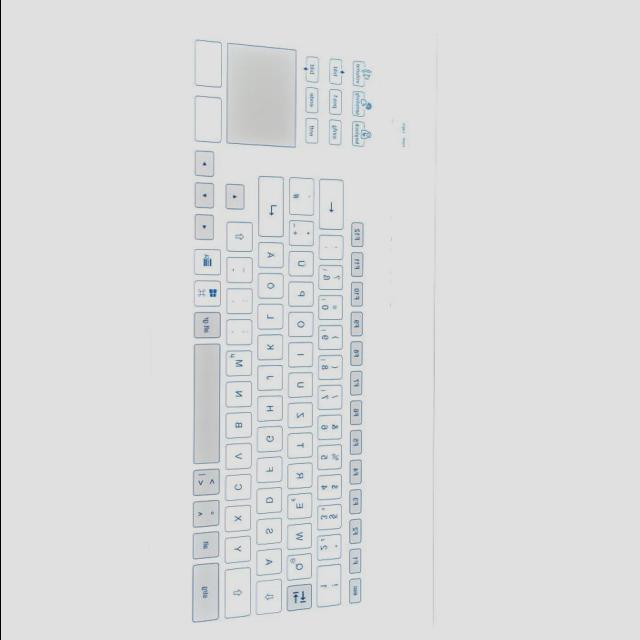0: (320, 297, 346, 323)
1: (320, 566, 344, 609)
2: (320, 536, 344, 562)
3: (319, 505, 345, 533)
4: (319, 476, 345, 502)
5: (319, 446, 345, 472)
6: (319, 416, 345, 442)
7: (319, 387, 345, 413)
8: (319, 357, 345, 383)
9: (320, 327, 346, 353)
a: (259, 551, 285, 579)
accent: (321, 237, 345, 262)
ae: (259, 243, 287, 271)
alt-left: (192, 532, 221, 560)
altgr-right: (193, 312, 222, 340)
b: (227, 413, 255, 441)
c: (226, 475, 254, 503)
comma: (228, 322, 256, 348)
d: (259, 490, 285, 516)
del: (320, 181, 346, 233)
e: (289, 495, 315, 523)
enter: (259, 178, 287, 240)
f: (259, 459, 285, 485)
g: (258, 428, 286, 454)
h: (260, 398, 286, 424)
hash: (290, 179, 316, 218)
i: (290, 344, 316, 370)
j: (259, 367, 287, 393)
k: (259, 336, 287, 364)
keyboard: (146, 0, 438, 640)
l: (259, 306, 287, 332)
less: (194, 470, 223, 498)
m: (228, 352, 256, 380)
minus: (228, 258, 256, 286)
n: (228, 383, 256, 411)
o: (290, 314, 316, 340)
oe: (259, 275, 287, 301)
p: (290, 283, 316, 309)
plus: (291, 223, 317, 249)
point: (228, 291, 256, 317)
q: (289, 555, 315, 583)
r: (290, 465, 316, 491)
s: (259, 520, 285, 548)
shift-left: (226, 569, 254, 621)
shift-lock: (258, 581, 284, 618)
shift-right: (228, 223, 256, 255)
space: (193, 343, 224, 466)
ss: (320, 267, 346, 293)
strg-left: (194, 563, 222, 625)
t: (290, 435, 316, 461)
tab: (288, 586, 316, 614)
u: (290, 374, 316, 400)
ue: (290, 253, 316, 279)
v: (227, 445, 255, 473)
w: (288, 526, 316, 552)
x: (226, 507, 254, 535)
y: (226, 538, 254, 566)
z: (290, 404, 316, 430)
